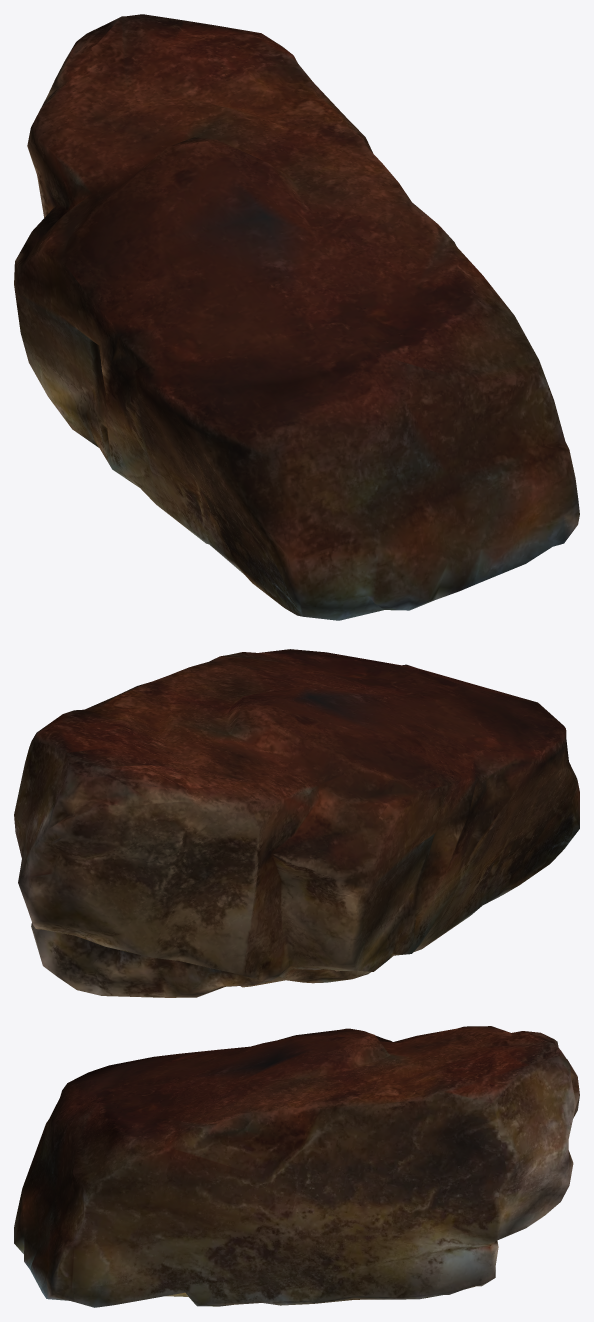
The model's file is rock_07.glb.
3 views of the same model, one above another, from view 1: azimuth 30°, elevation 25°; view 2: azimuth 150°, elevation 25°; view 3: azimuth 270°, elevation 25° (orthographic). The views are drawn at different scales.
Parts seen in each view (by area): view 1: rock_07; view 2: rock_07; view 3: rock_07.
Boxes of the visible parts, x1,y1,x2,y2 form: rock_07: (14,14,579,620); rock_07: (14,649,579,997); rock_07: (14,1026,579,1307).
Bounding box in the file's own units: 0.167 × 0.1434 × 0.3194.
1 material, 1 textured.
